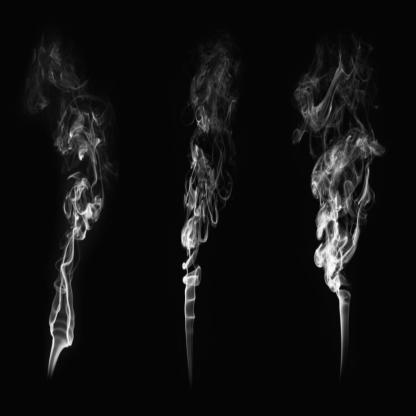smoke: (303, 61, 375, 371), (180, 53, 236, 374), (43, 98, 105, 376)
